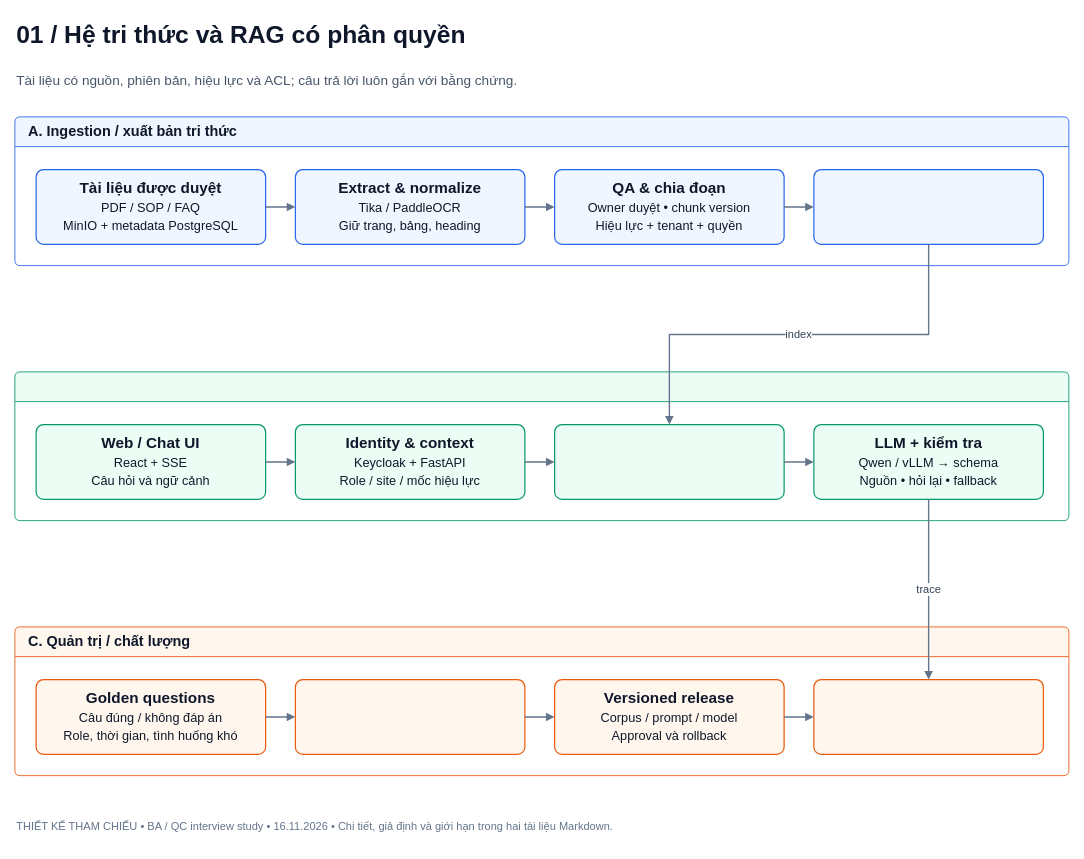
Some shapes in this 1084 by 859 pixel diagram are drawn without their labels. The box of each missing label's shape, as (x1, y1, x2, y2) in pixels:
Audit & monitoring OpenTelemetry / Langfuse Trace đã mask dữ liệu: (813, 679, 1044, 755)
B. Truy vấn / trả lời: (14, 371, 1069, 521)
Evaluation runner Retrieval + answer + leakage SME review và regression: (294, 679, 525, 755)
Hybrid index OpenSearch BM25 + Qdrant bge-m3 embeddings: (813, 169, 1044, 245)
Retrieve & rerank ACL filter → hybrid search bge-reranker-v2-m3: (554, 424, 784, 500)
